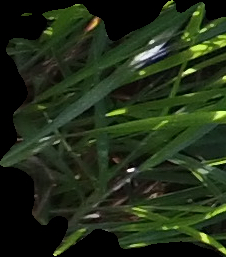grass: (1, 1, 225, 256)
